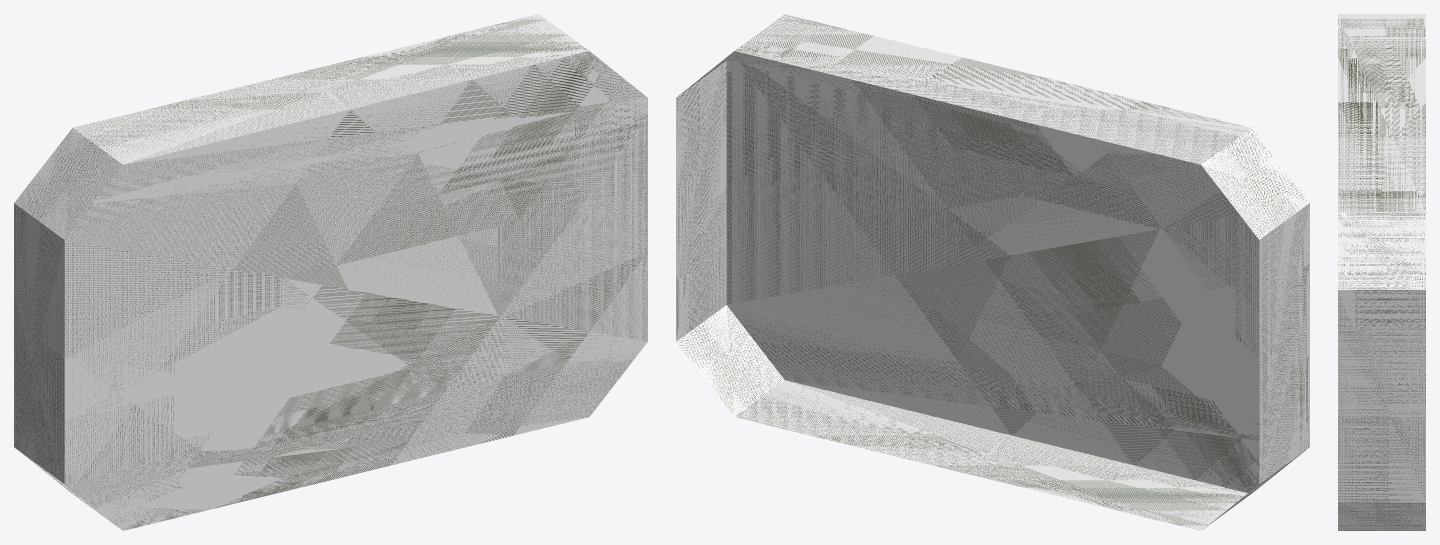
The model's file is original-47.obj.
The picture shows the model from 3 angles, left to right: view 1: azimuth 30°, elevation 25°; view 2: azimuth 150°, elevation 25°; view 3: azimuth 270°, elevation 25°; orthographic projection. The views are drawn at different scales.
Visible parts, largest first — view 1: mesh67/mesh67-geometry#mesh67-geometry; view 2: mesh67/mesh67-geometry#mesh67-geometry; view 3: mesh67/mesh67-geometry#mesh67-geometry.
Part boxes in pixels (<box>): mesh67/mesh67-geometry#mesh67-geometry: <box>14,14,647,530</box>; mesh67/mesh67-geometry#mesh67-geometry: <box>676,14,1309,530</box>; mesh67/mesh67-geometry#mesh67-geometry: <box>1338,14,1425,530</box>.
Bounding box in the file's own units: 0.1126 × 0.0676 × 0.0169.
